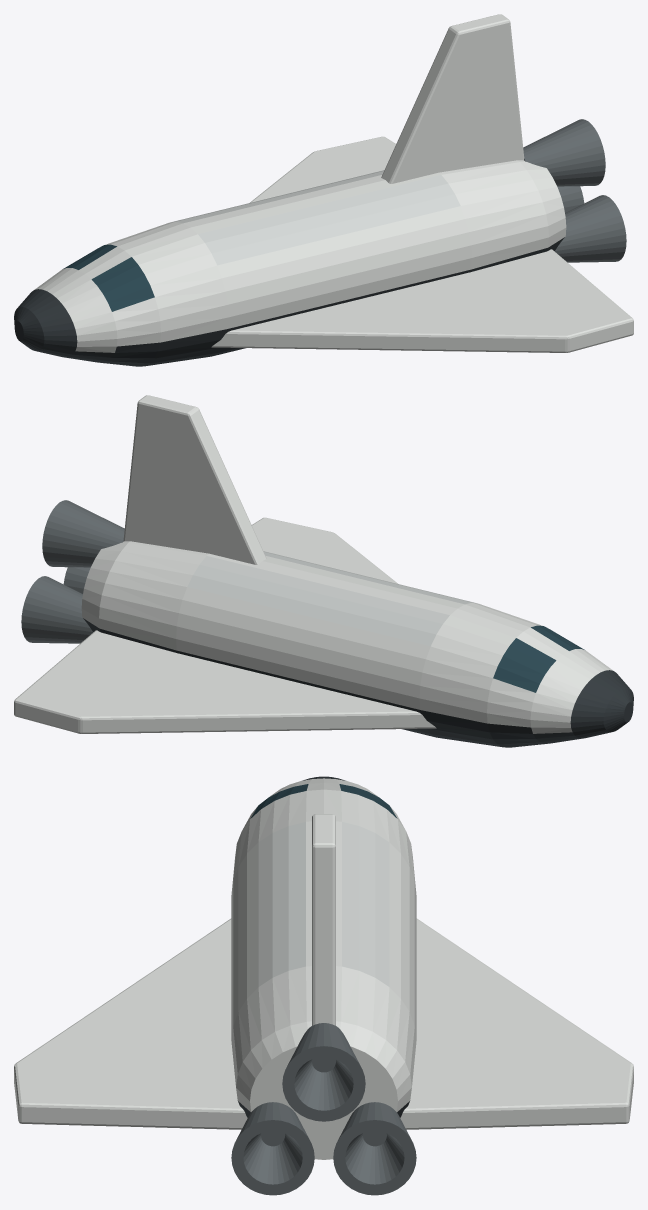
The model's file is NEW_RECOVERY_121_LOD0.glb.
The picture shows the model from 3 angles, top to bottom: view 1: azimuth 30°, elevation 25°; view 2: azimuth 150°, elevation 25°; view 3: azimuth 270°, elevation 25°; orthographic projection. The views are drawn at different scales.
Parts seen in each view (by area): view 1: Orbiter solid; view 2: Orbiter solid; view 3: Orbiter solid.
Boxes of the visible parts, <box> form: Orbiter solid: <box>14,14,633,366</box>; Orbiter solid: <box>14,395,633,747</box>; Orbiter solid: <box>14,776,633,1195</box>.
Bounding box in the file's own units: 8.65 × 3.75 × 6.7.
